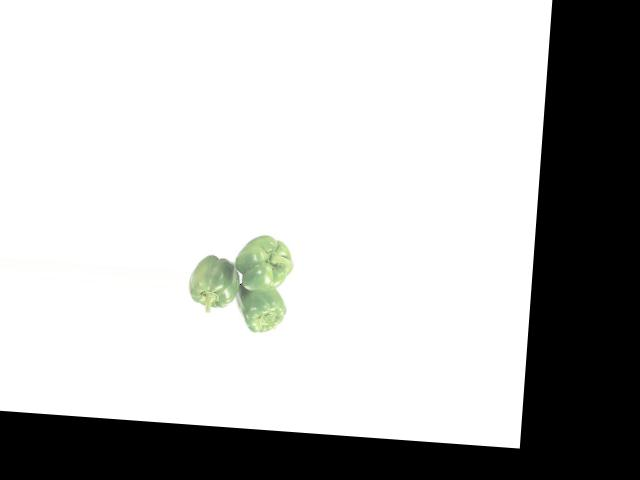bell_pepper: (233, 228, 300, 295)
